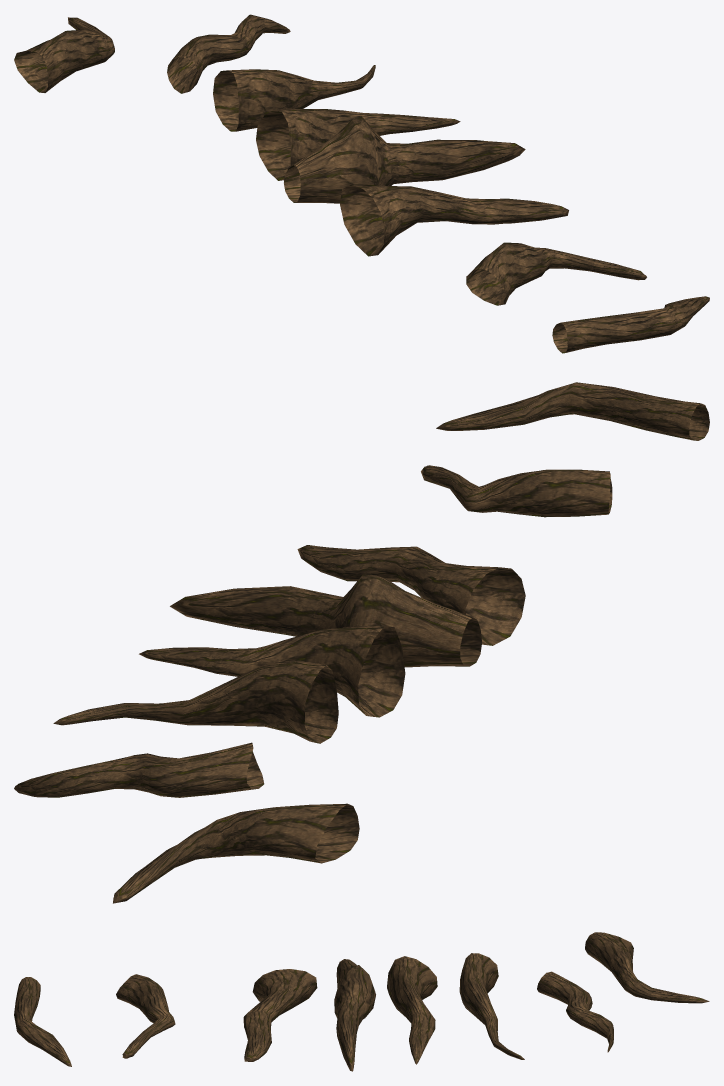
Rendered from Roots.fbx.
3 renders of one model, top to bottom at view 1: azimuth 30°, elevation 25°; view 2: azimuth 150°, elevation 25°; view 3: azimuth 270°, elevation 25°, orthographic. The views are drawn at different scales.
Visible parts, largest first — view 1: Root_Piece_4, Root_Piece_3, Root_Piece_5, Root_Piece_6, Root_Piece_2, Root_Piece_1, Root_Piece_8, Root_Piece_7; view 2: Root_Piece_4, Root_Piece_6, Root_Piece_5, Root_Piece_3, Root_Piece_8, Root_Piece_7, Root_Piece_1, Root_Piece_2; view 3: Root_Piece_3, Root_Piece_5, Root_Piece_4, Root_Piece_8, Root_Piece_6, Root_Piece_2, Root_Piece_7, Root_Piece_1.
Part boxes in pixels (x1=…): Root_Piece_4: x1=284, y1=116, x2=525, y2=203; Root_Piece_3: x1=340, y1=184, x2=568, y2=256; Root_Piece_5: x1=256, y1=109, x2=460, y2=180; Root_Piece_6: x1=213, y1=65, x2=375, y2=131; Root_Piece_2: x1=466, y1=242, x2=646, y2=305; Root_Piece_1: x1=552, y1=296, x2=709, y2=353; Root_Piece_8: x1=14, y1=17, x2=114, y2=92; Root_Piece_7: x1=167, y1=14, x2=290, y2=93; Root_Piece_4: x1=170, y1=574, x2=481, y2=667; Root_Piece_6: x1=53, y1=660, x2=338, y2=743; Root_Piece_5: x1=139, y1=626, x2=405, y2=717; Root_Piece_3: x1=297, y1=545, x2=525, y2=645; Root_Piece_8: x1=113, y1=803, x2=359, y2=903; Root_Piece_7: x1=14, y1=742, x2=264, y2=797; Root_Piece_1: x1=436, y1=382, x2=709, y2=440; Root_Piece_2: x1=421, y1=465, x2=612, y2=517; Root_Piece_3: x1=243, y1=969, x2=317, y2=1061; Root_Piece_5: x1=387, y1=956, x2=437, y2=1064; Root_Piece_4: x1=334, y1=959, x2=375, y2=1071; Root_Piece_8: x1=585, y1=932, x2=709, y2=1003; Root_Piece_6: x1=459, y1=953, x2=524, y2=1059; Root_Piece_2: x1=116, y1=974, x2=175, y2=1058; Root_Piece_7: x1=537, y1=971, x2=613, y2=1052; Root_Piece_1: x1=14, y1=977, x2=71, y2=1066.
Size of the model in its own units: 36.89 by 9.08 by 99.37.
